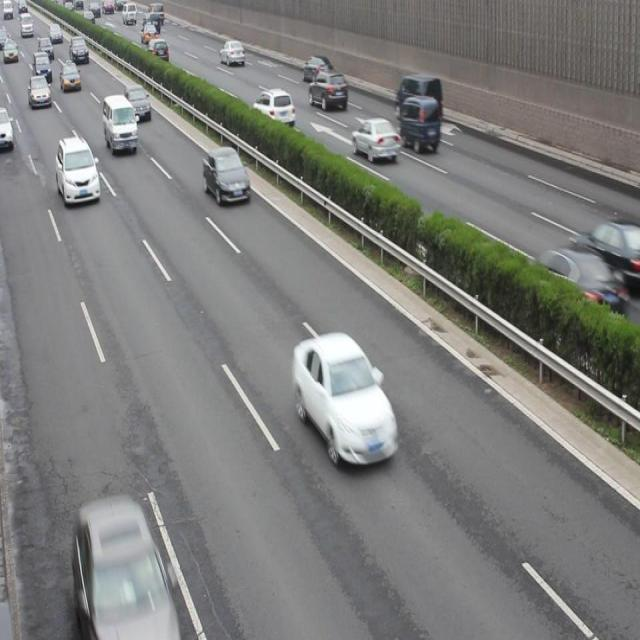car: (292, 330, 398, 470), (74, 500, 176, 640), (530, 243, 625, 325), (568, 222, 640, 289), (56, 136, 100, 205), (201, 146, 251, 206), (396, 94, 438, 155), (351, 118, 399, 162), (250, 89, 295, 126), (308, 70, 347, 110), (123, 85, 153, 120), (302, 54, 333, 83), (28, 75, 52, 110), (60, 61, 82, 91), (32, 50, 53, 80), (69, 37, 91, 65), (1, 106, 15, 149), (144, 39, 168, 64), (219, 42, 244, 65), (1, 38, 19, 64), (140, 21, 157, 44), (40, 37, 54, 60)
truck: (103, 94, 138, 153), (395, 74, 441, 118)
